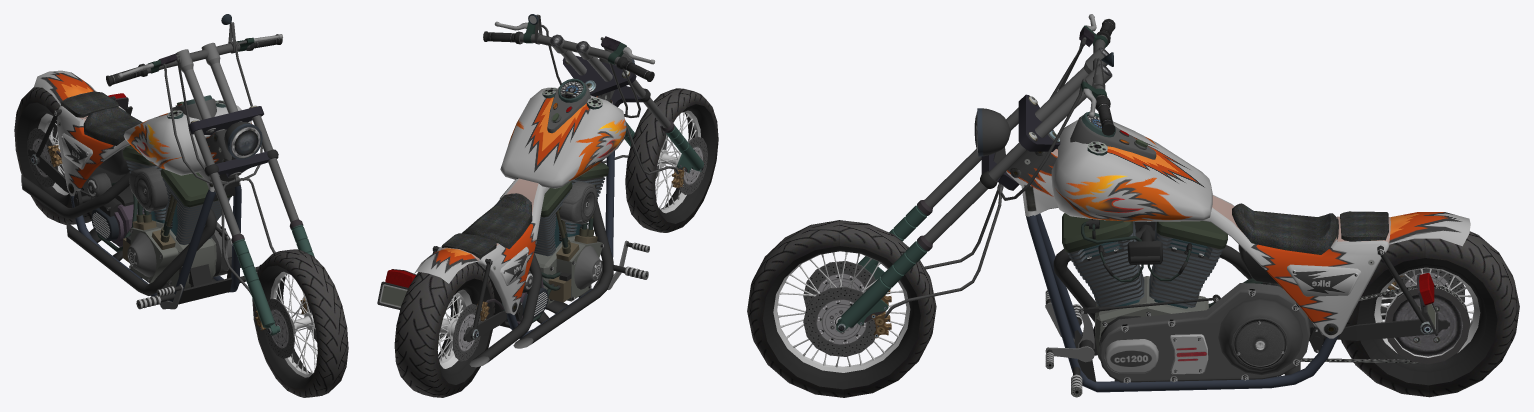
The model's file is Motorbike 7.FBX.
3 views of the same model, side by side, from view 1: azimuth 30°, elevation 25°; view 2: azimuth 150°, elevation 25°; view 3: azimuth 270°, elevation 25° (orthographic). The views are drawn at different scales.
Parts seen in each view (by area): view 1: Body, Steer, Wheel_F, Wheel_B, Mudguard, forks_rear; view 2: Body, Wheel_B, Wheel_F, Steer, forks_rear, Mudguard; view 3: Body, Wheel_F, Wheel_B, Steer, Mudguard, forks_rear.
Boxes of the visible parts, left/top/right/bottom form: Body: left=21, top=70, right=261, bottom=309; Steer: left=106, top=14, right=301, bottom=294; Wheel_F: left=252, top=249, right=348, bottom=397; Wheel_B: left=14, top=87, right=92, bottom=224; Mudguard: left=231, top=219, right=314, bottom=335; forks_rear: left=28, top=93, right=132, bottom=199; Body: left=413, top=78, right=649, bottom=367; Wheel_B: left=394, top=262, right=495, bottom=397; Wheel_F: left=625, top=88, right=718, bottom=232; Steer: left=483, top=14, right=678, bottom=174; forks_rear: left=377, top=269, right=507, bottom=342; Mudguard: left=624, top=120, right=703, bottom=188; Body: left=1006, top=111, right=1470, bottom=397; Wheel_F: left=747, top=220, right=936, bottom=397; Wheel_B: left=1341, top=231, right=1519, bottom=397; Steer: left=884, top=14, right=1115, bottom=318; Mudguard: left=836, top=199, right=932, bottom=338; forks_rear: left=1300, top=273, right=1469, bottom=363.
Bounding box in the file's own units: 45.24 × 72.54 × 140.
5 materials, 4 textured.
